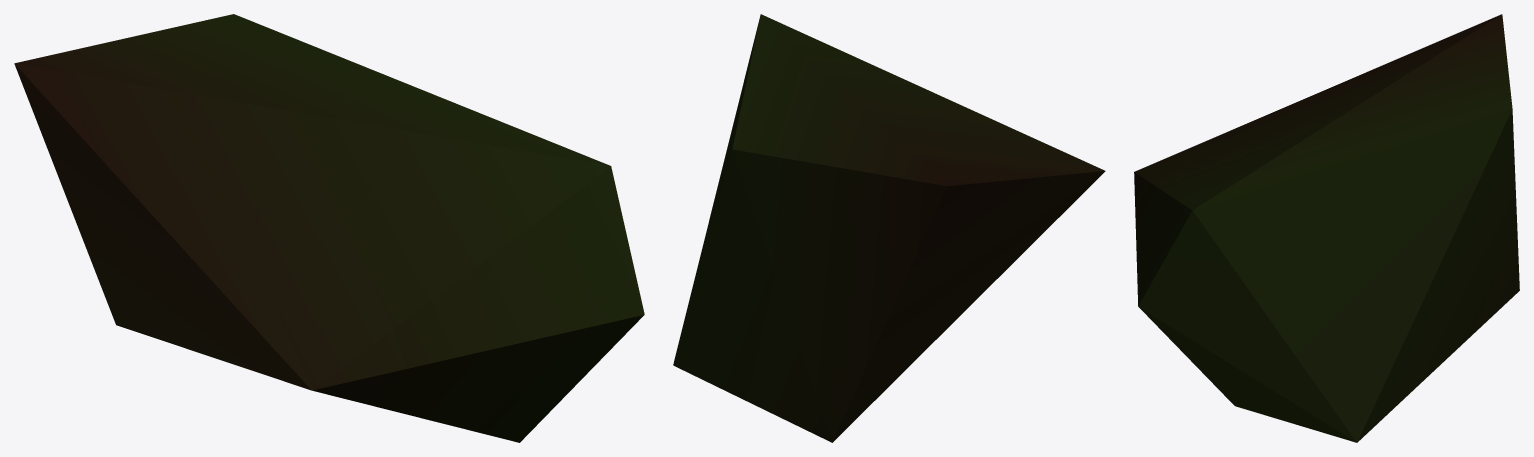
File: tf_talus_chunk_1_lod1.glb
The picture shows the model from 3 angles, left to right: view 1: azimuth 30°, elevation 25°; view 2: azimuth 150°, elevation 25°; view 3: azimuth 270°, elevation 25°; orthographic projection. The views are drawn at different scales.
Parts seen in each view (by area): view 1: tf_talus_chunk_1_lod1; view 2: tf_talus_chunk_1_lod1; view 3: tf_talus_chunk_1_lod1.
Part boxes in pixels (x1,y1,x2,y2): tf_talus_chunk_1_lod1: (14,14,644,442); tf_talus_chunk_1_lod1: (673,14,1105,442); tf_talus_chunk_1_lod1: (1134,14,1519,442).
Size of the model in its own units: 0.8931 by 0.7625 by 0.9523.
